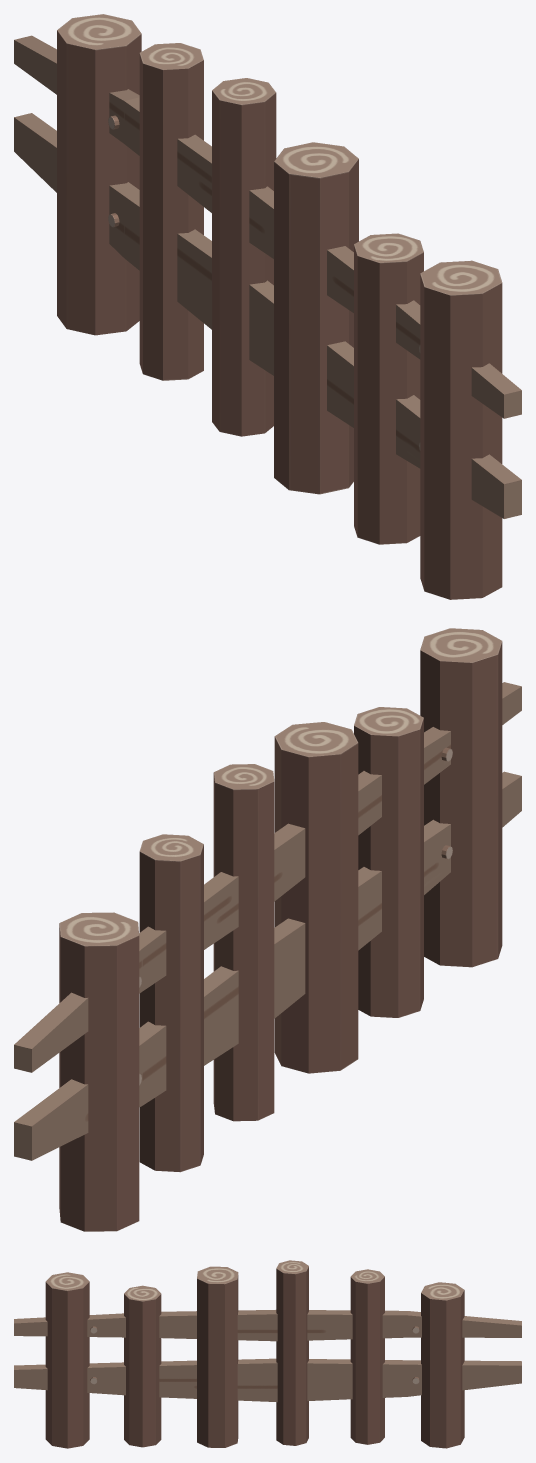
Rendered from Fence D.fbx.
3 renders of one model, top to bottom at view 1: azimuth 30°, elevation 25°; view 2: azimuth 150°, elevation 25°; view 3: azimuth 270°, elevation 25°, orthographic. The views are drawn at different scales.
Parts seen in each view (by area): view 1: 柱体.004; view 2: 柱体.004; view 3: 柱体.004.
Part boxes in pixels (x1,y1,x2,y2): 柱体.004: [14, 14, 521, 599]; 柱体.004: [14, 628, 521, 1231]; 柱体.004: [14, 1260, 521, 1448].
Size of the model in its own units: 70.9 by 305 by 816.
Materials: 1 (1 with a texture image).
